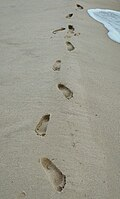human_footprint: (40, 157, 65, 191), (35, 114, 49, 135), (58, 83, 72, 98), (52, 60, 60, 70), (52, 27, 65, 33), (66, 41, 74, 50), (66, 13, 72, 18), (76, 4, 83, 8)
